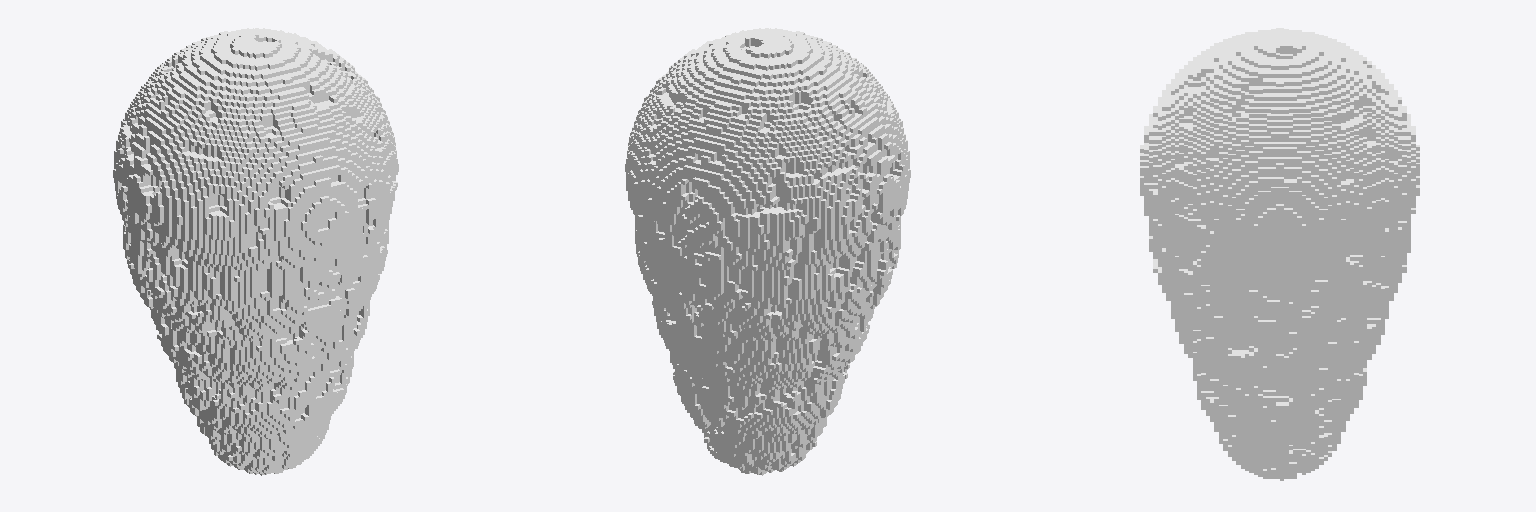
The model's file is Comete.obj.
3 renders of one model, left to right at view 1: azimuth 30°, elevation 25°; view 2: azimuth 150°, elevation 25°; view 3: azimuth 270°, elevation 25°, orthographic.
Visible parts, largest first — view 1: object 1; view 2: object 1; view 3: object 1.
Boxes of the visible parts, x1,y1,x2,y2 form: object 1: [113, 28, 398, 475]; object 1: [625, 28, 910, 475]; object 1: [1140, 28, 1419, 480].
Bounding box in the file's own units: 6.4 × 10.7 × 6.4.